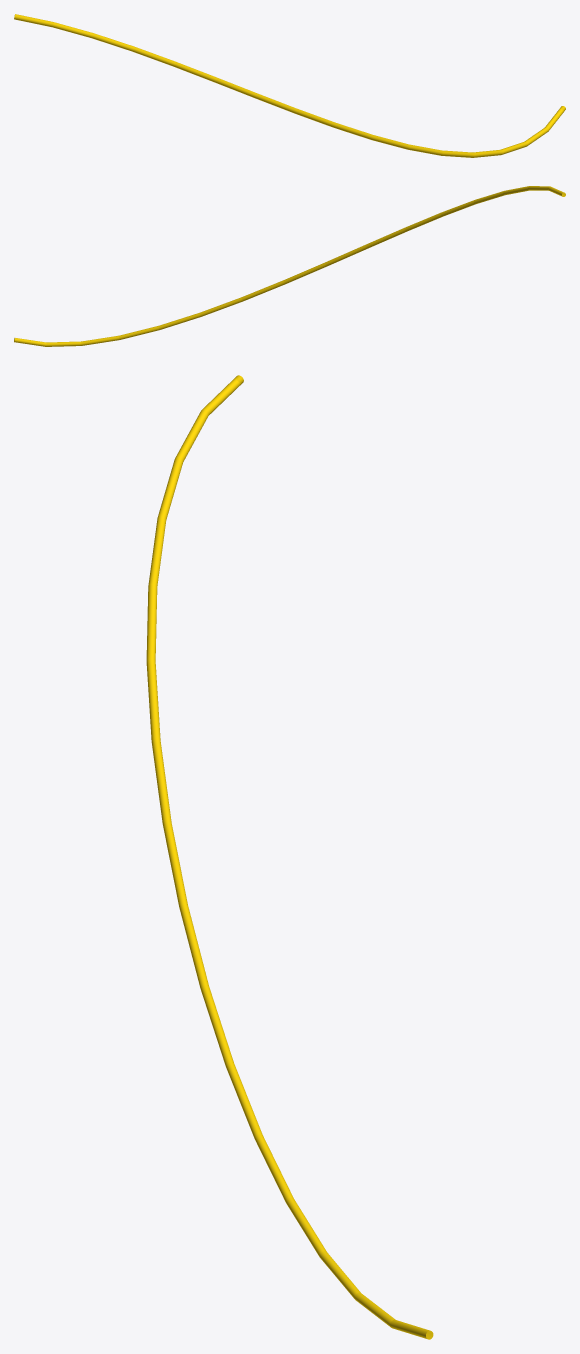
Rendered from Event_421127236_track_60.fbx.
3 views of the same model, one above another, from view 1: azimuth 30°, elevation 25°; view 2: azimuth 150°, elevation 25°; view 3: azimuth 270°, elevation 25° (orthographic). The views are drawn at different scales.
Parts seen in each view (by area): view 1: Model; view 2: Model; view 3: Model.
Boxes of the visible parts, bbox=[...] form: Model: bbox=[14, 14, 565, 157]; Model: bbox=[14, 186, 565, 346]; Model: bbox=[146, 375, 433, 1339].
Bounding box in the file's own units: 5.13 × 2.36 × 1.26.
